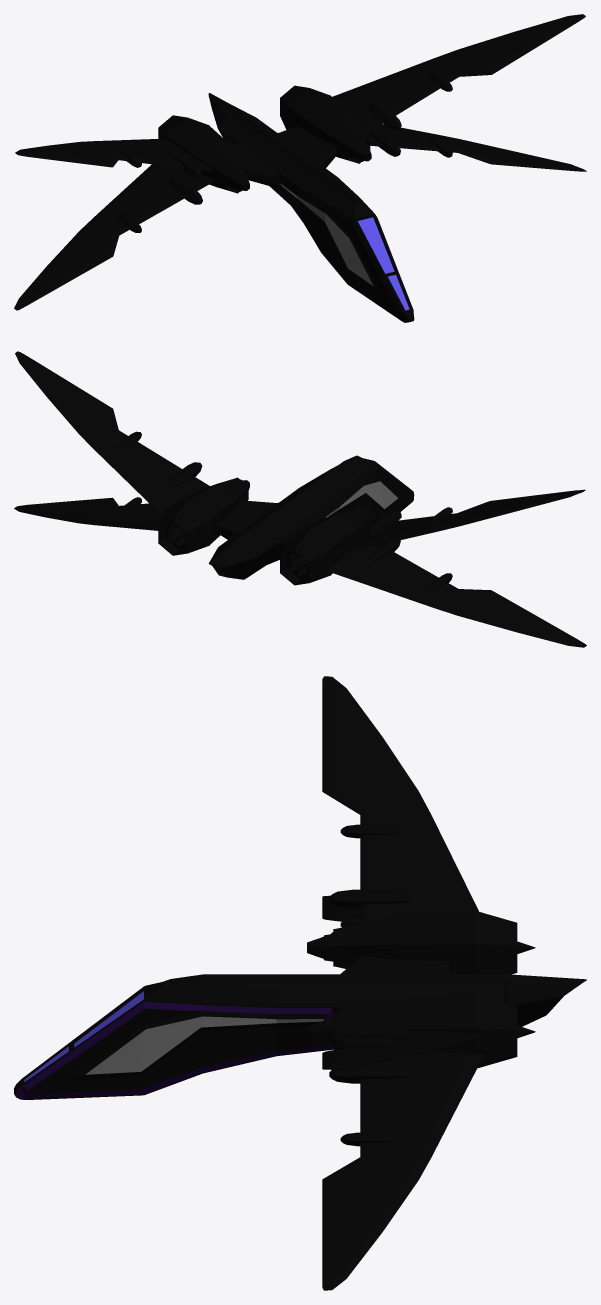
Rendered from naveEspacial.fbx.
3 renders of one model, top to bottom at view 1: azimuth 30°, elevation 25°; view 2: azimuth 150°, elevation 25°; view 3: azimuth 270°, elevation 25°, orthographic. The views are drawn at different scales.
Parts seen in each view (by area): view 1: Nave; view 2: Nave; view 3: Nave.
Boxes of the visible parts, <box> form: Nave: <box>14,14,586,322</box>; Nave: <box>14,351,586,647</box>; Nave: <box>14,676,586,1290</box>.
Bounding box in the file's own units: 16195 × 4298 × 9947.
